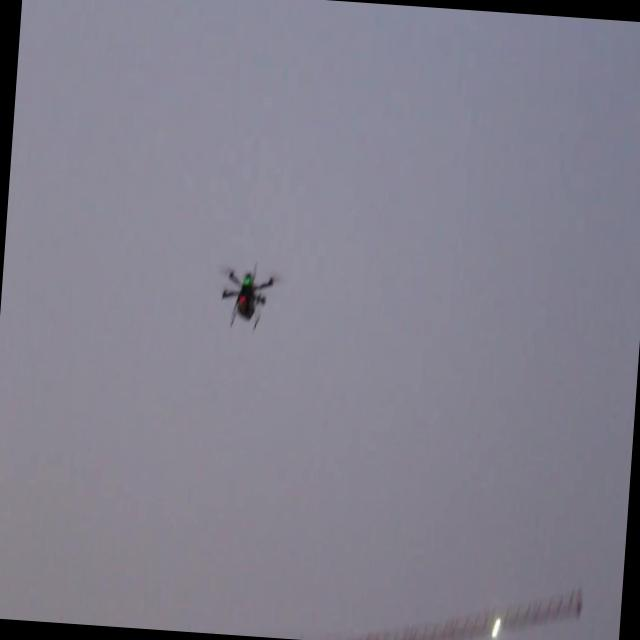drone: (218, 256, 280, 332)
